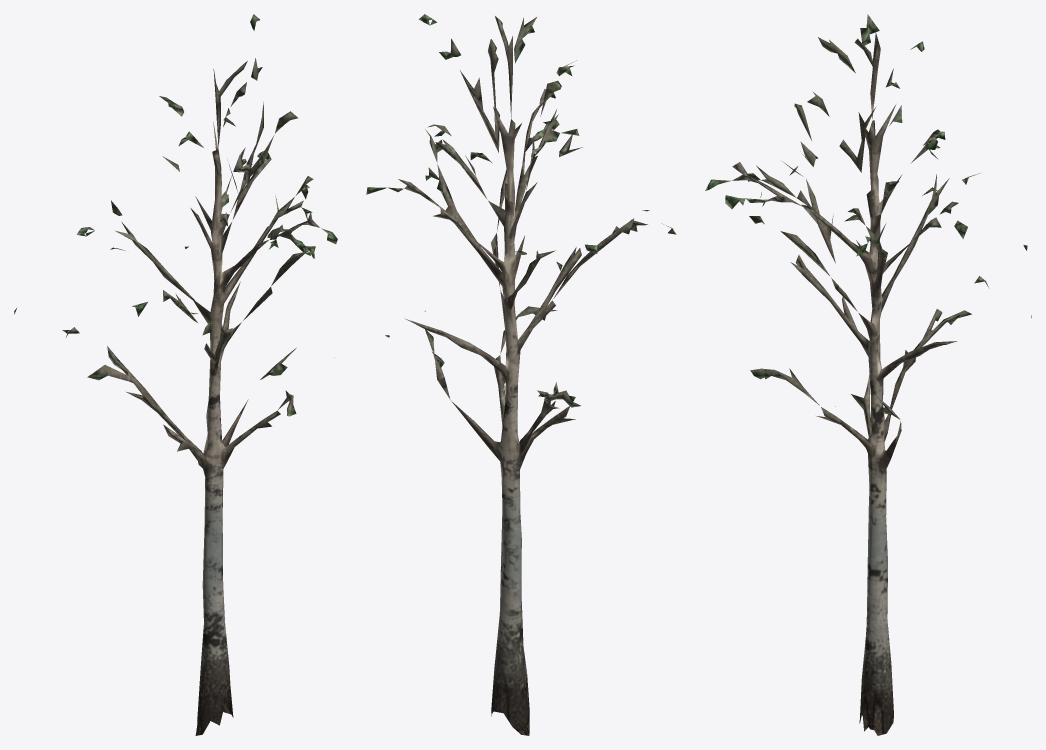
The model's file is tree-3.glb.
3 renders of one model, left to right at view 1: azimuth 30°, elevation 25°; view 2: azimuth 150°, elevation 25°; view 3: azimuth 270°, elevation 25°, orthographic. The views are drawn at different scales.
Parts seen in each view (by area): view 1: geometry_0; view 2: geometry_0; view 3: geometry_0.
Boxes of the visible parts, left/top/right/bottom form: geometry_0: left=14, top=14, right=337, bottom=735; geometry_0: left=366, top=14, right=676, bottom=735; geometry_0: left=705, top=14, right=1031, bottom=735.
Size of the model in its own units: 0.3082 by 0.8695 by 0.3525.
Materials: 1 (1 with a texture image).
